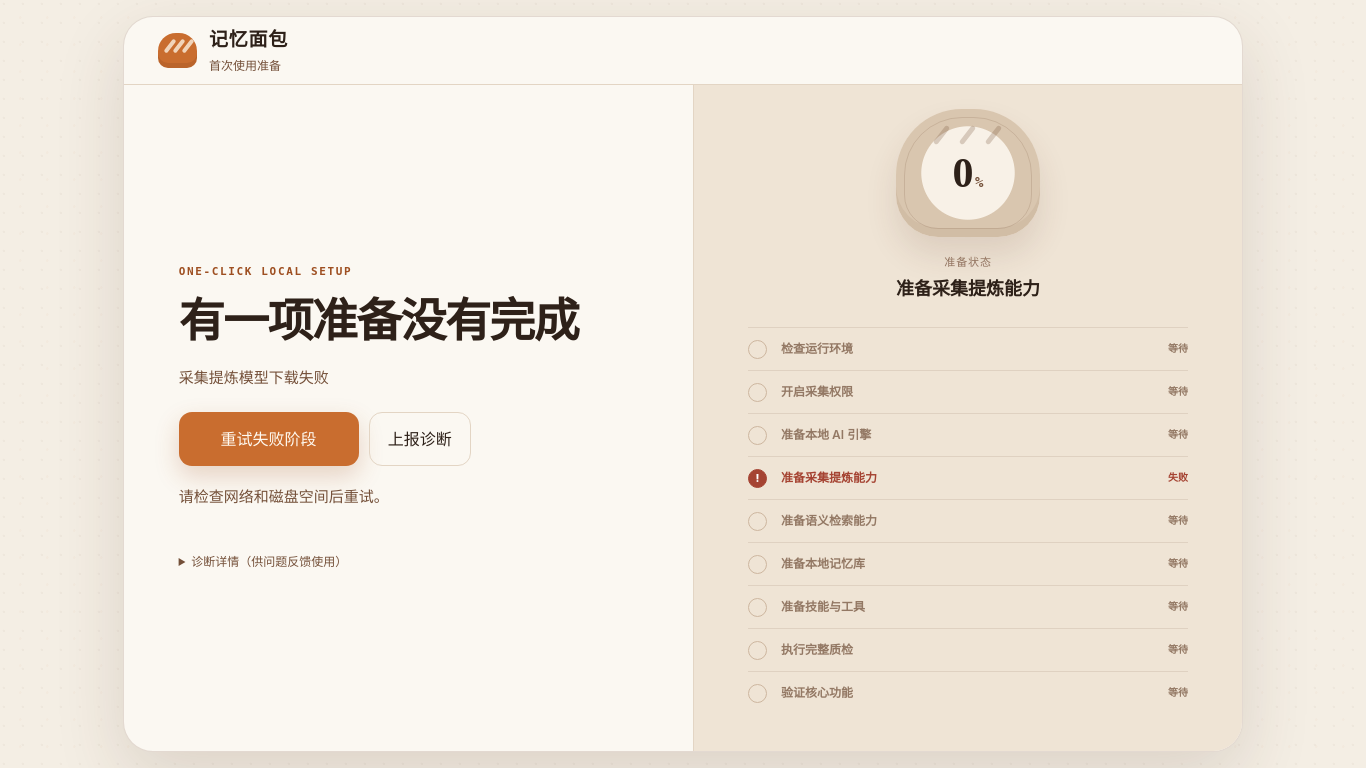
Scenario: 首次启动一键初始化 › 诊断上报及日志失败后重载补传（首次日志失败=false）
The width and height of the screenshot is (1366, 768).
Click the button "上报诊断" at (420, 439), box [369,412,471,466]
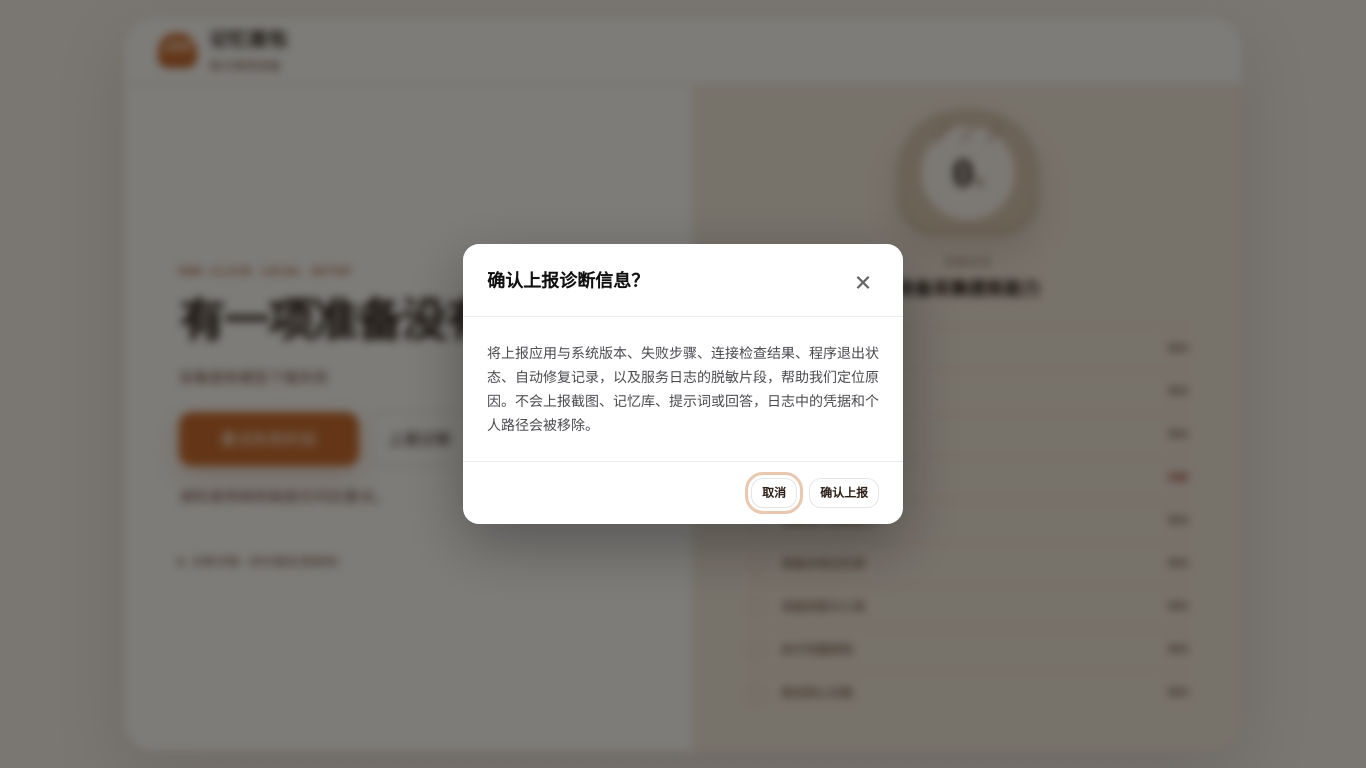
Now the dialog "确认上报诊断信息？" is shown, box [463,244,903,524]
Click the button "确认上报" at (844, 493), box [809,478,879,508]
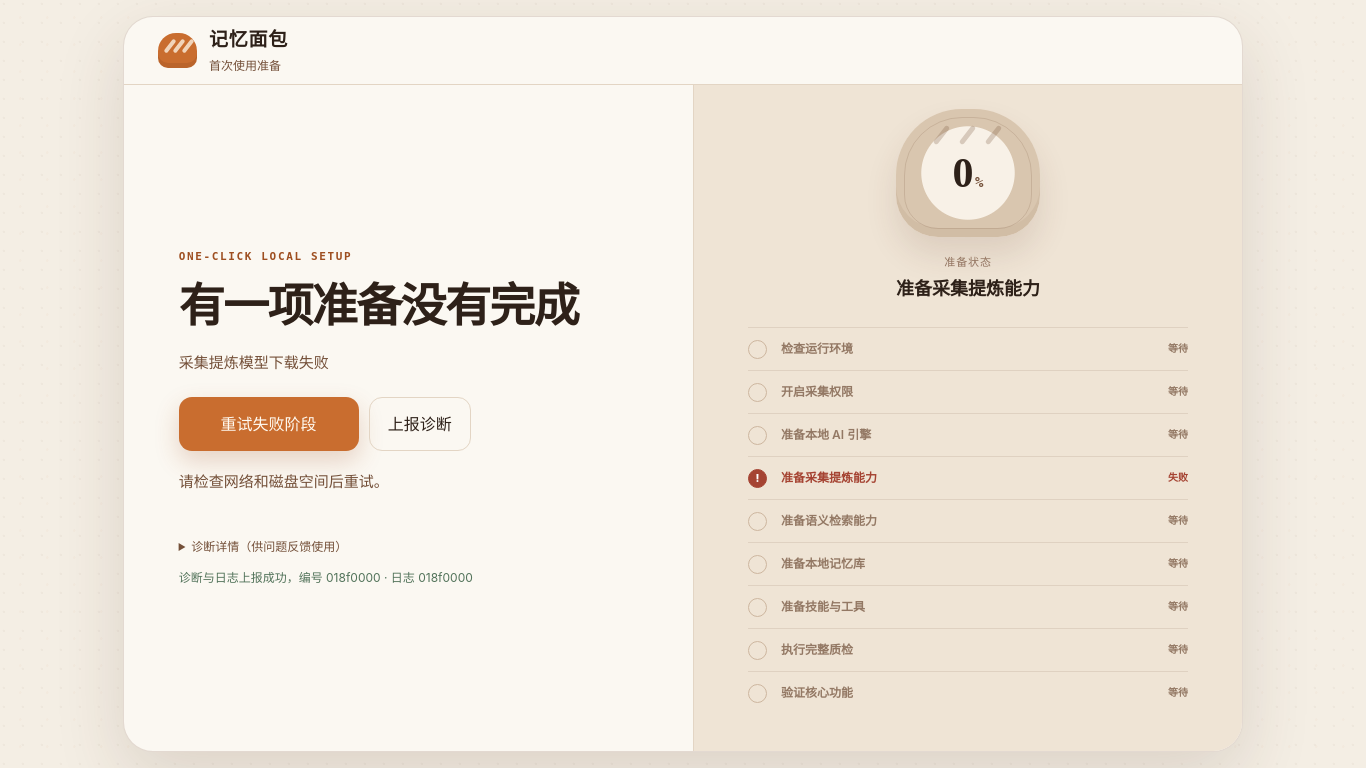
Now the text "诊断与日志上报成功，编号 018f0000 · 日志 018f0000" is shown, box [179,569,473,587]
